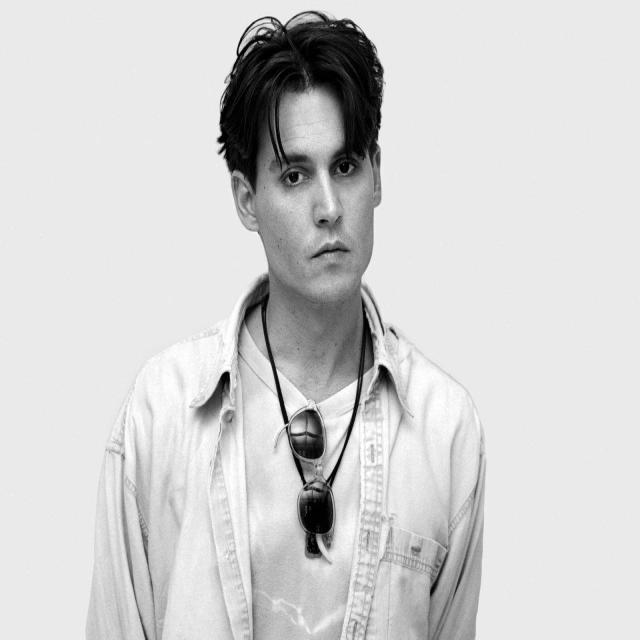no-earmuff: (230, 168, 258, 232)
